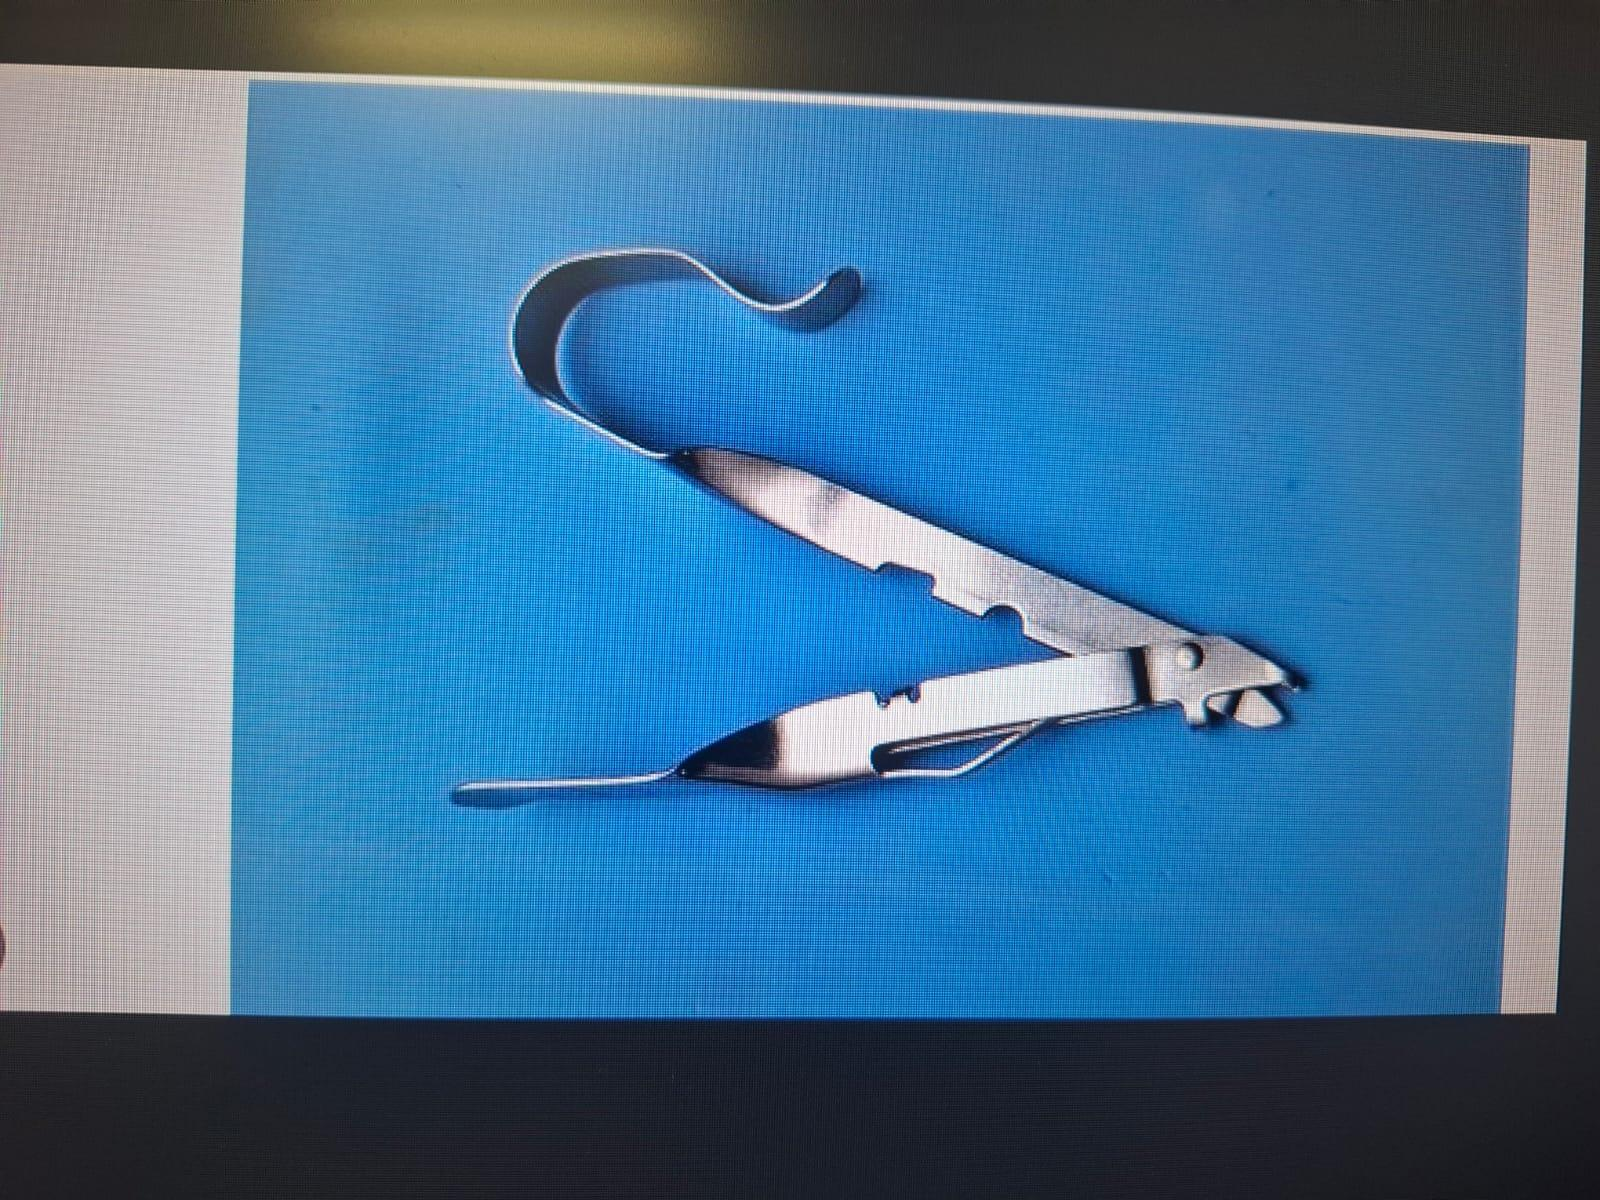Stapler Remover: (444, 230, 1328, 836)
